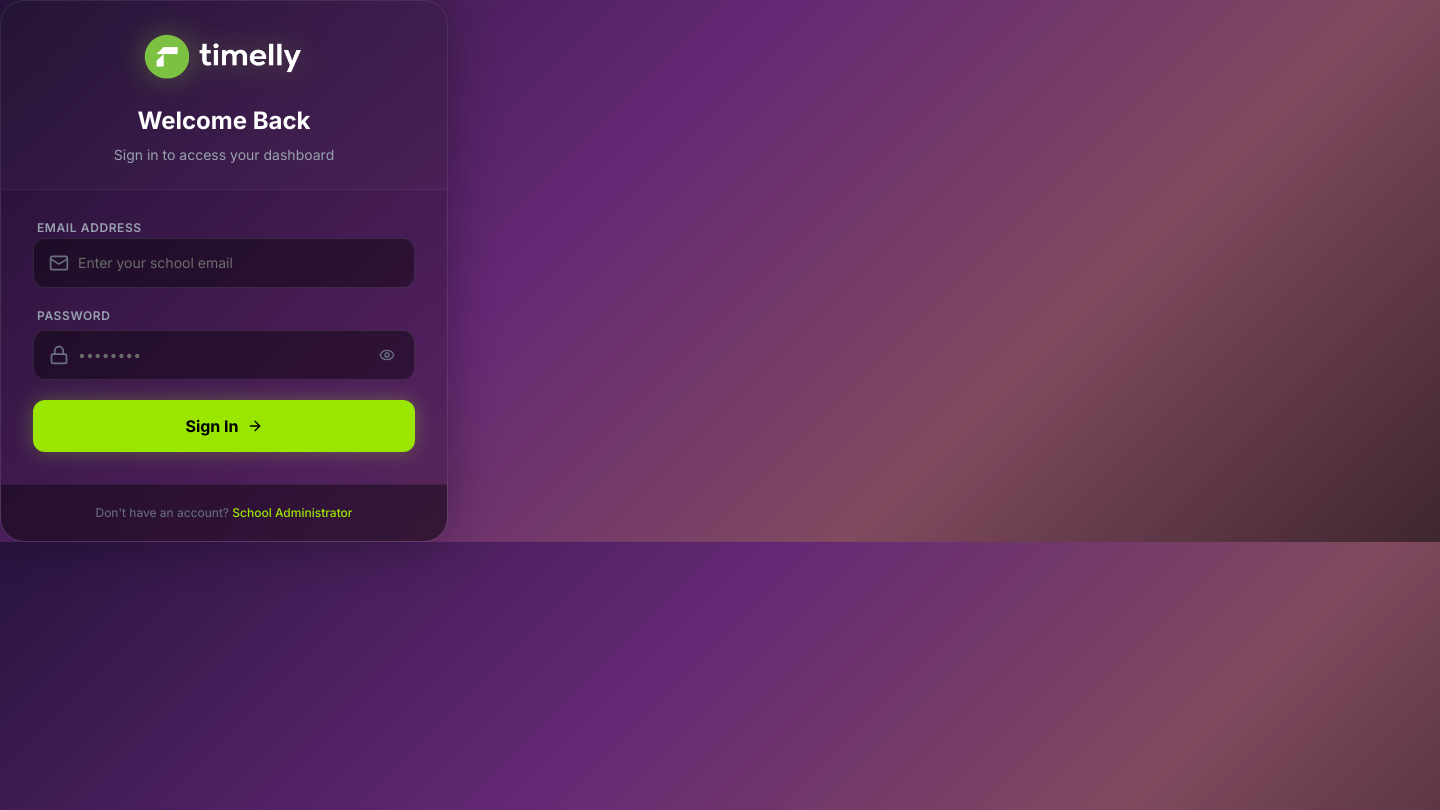
Scenario: LoginForm › shows deactivated message when error includes deactivated
Type "u@x.com" into the field with placeholder "Enter your school email" at (224, 263), box [33, 238, 415, 288]
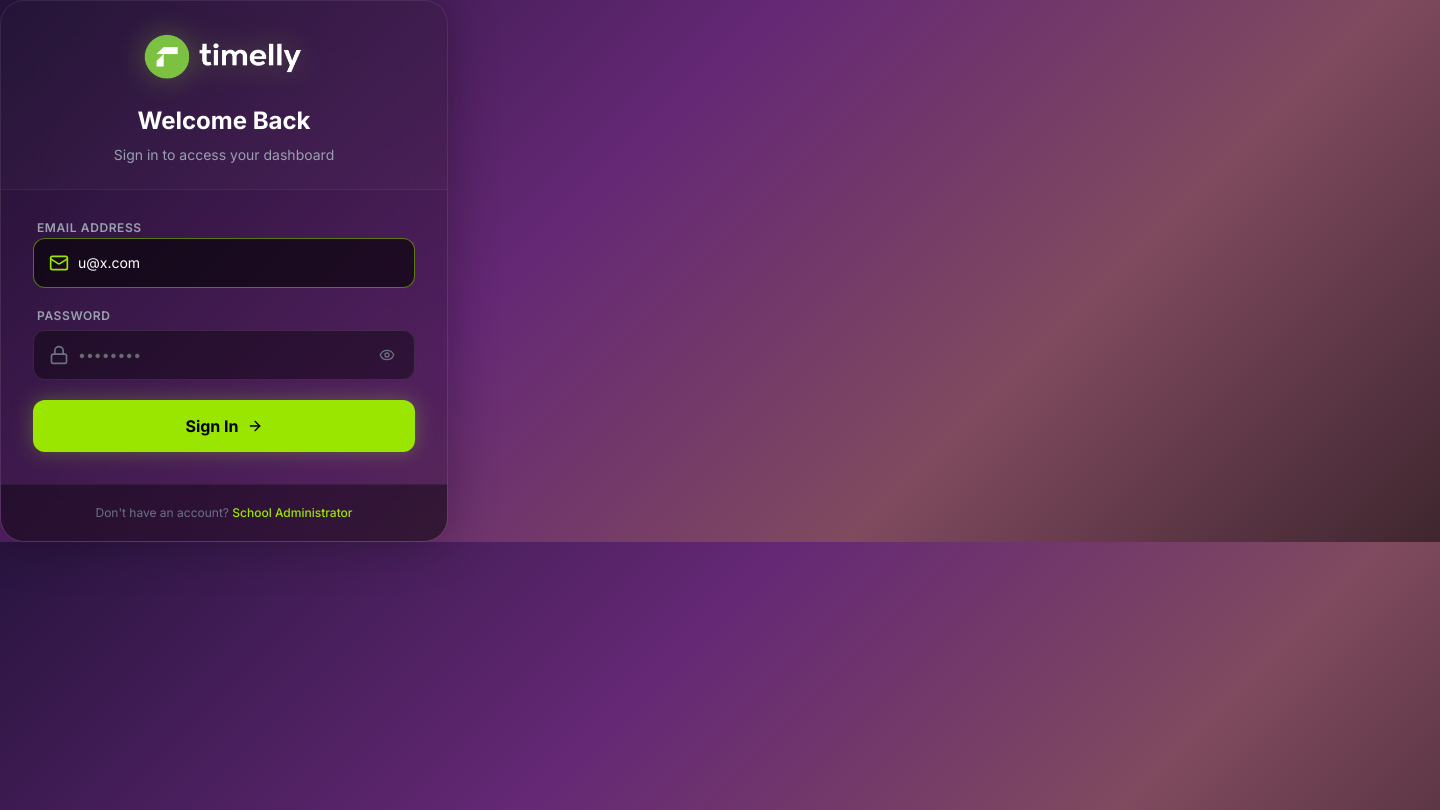
Type "p" into the password field with placeholder "••••••••" at (224, 355), box [33, 330, 415, 380]
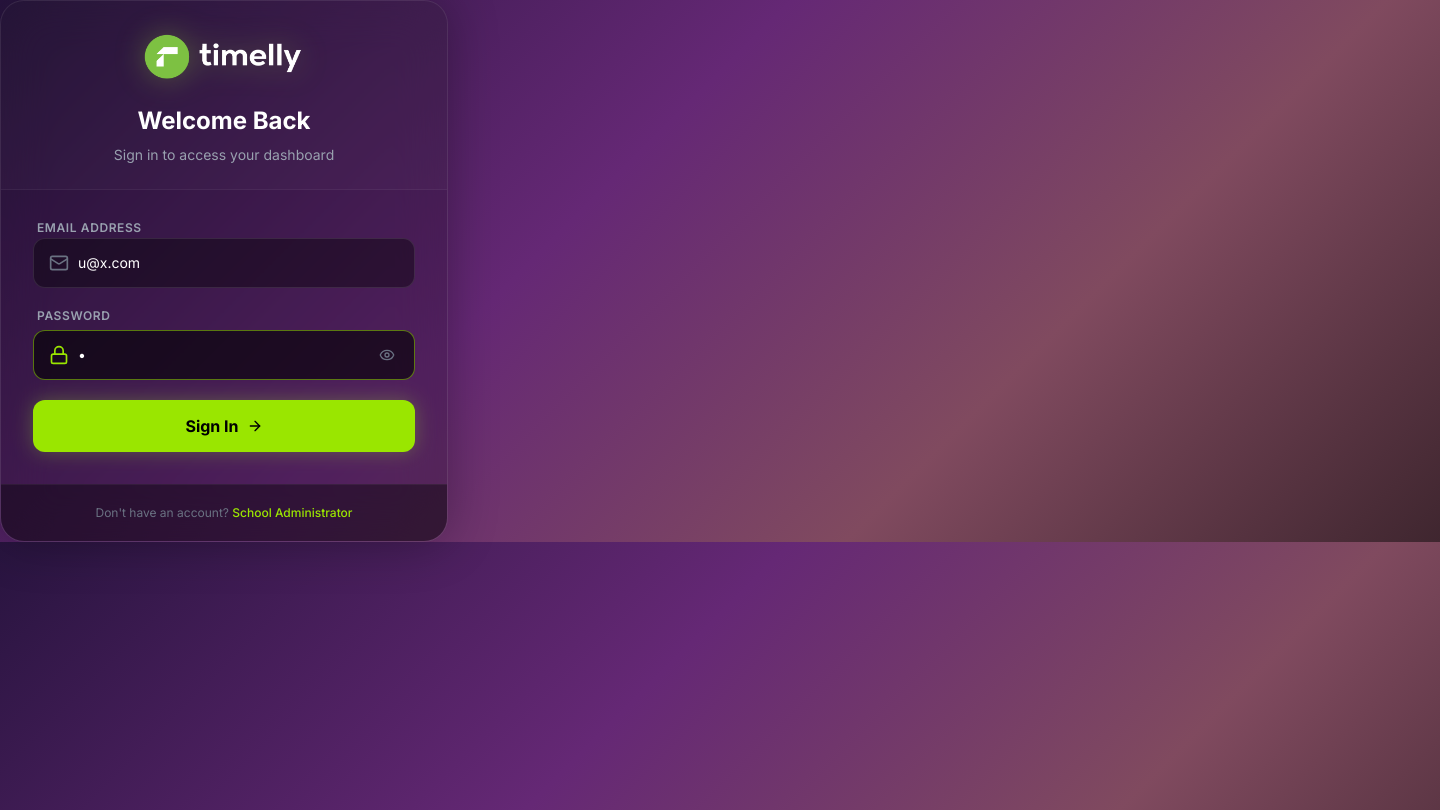
Submit the form from the button "Sign In", box [33, 400, 415, 452]
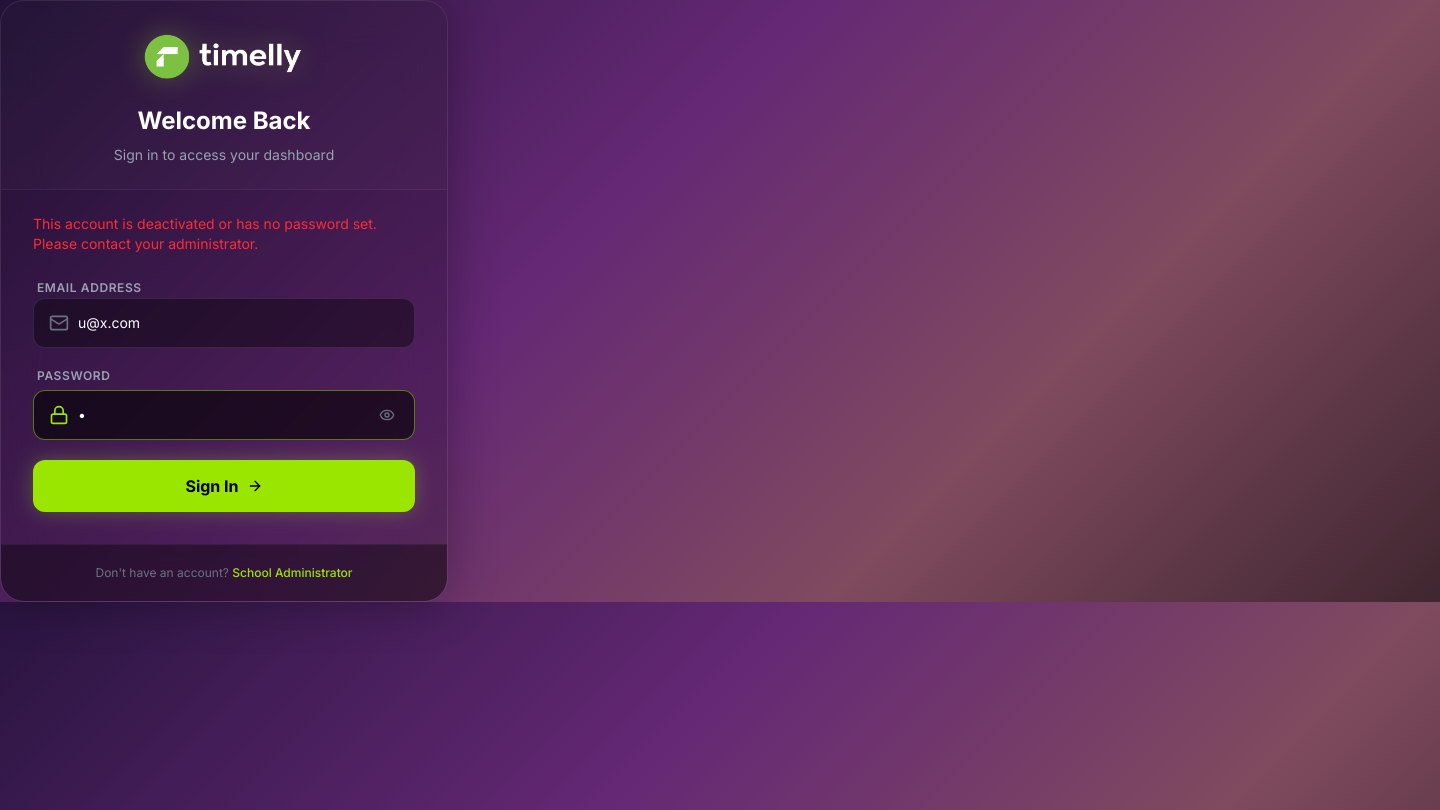
expect the text "deactivated or has no password set" is shown: met, box [33, 215, 377, 252]
